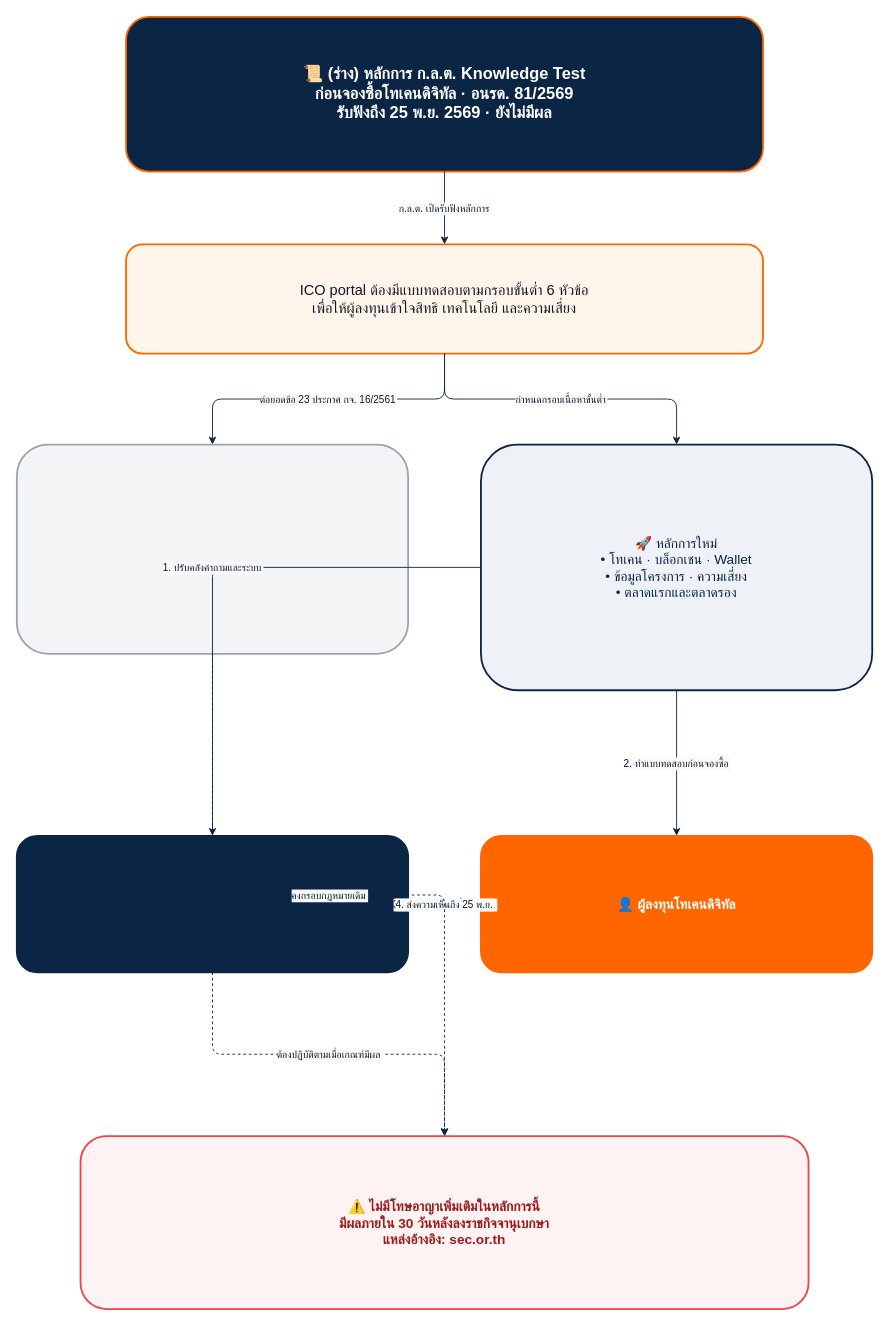
This 888x1325 diagram has some shape labels left out. Each missing label, with the box of its shape:
🏛️ เกณฑ์ปัจจุบัน • มีหน้าที่จัดแบบทดสอบ • ยังไม่มีกรอบเนื้อหากลาง: (15, 443, 409, 654)
🏢 ICO portal / ผู้พัฒนาระบบเสนอขายโทเคน: (15, 834, 409, 973)
